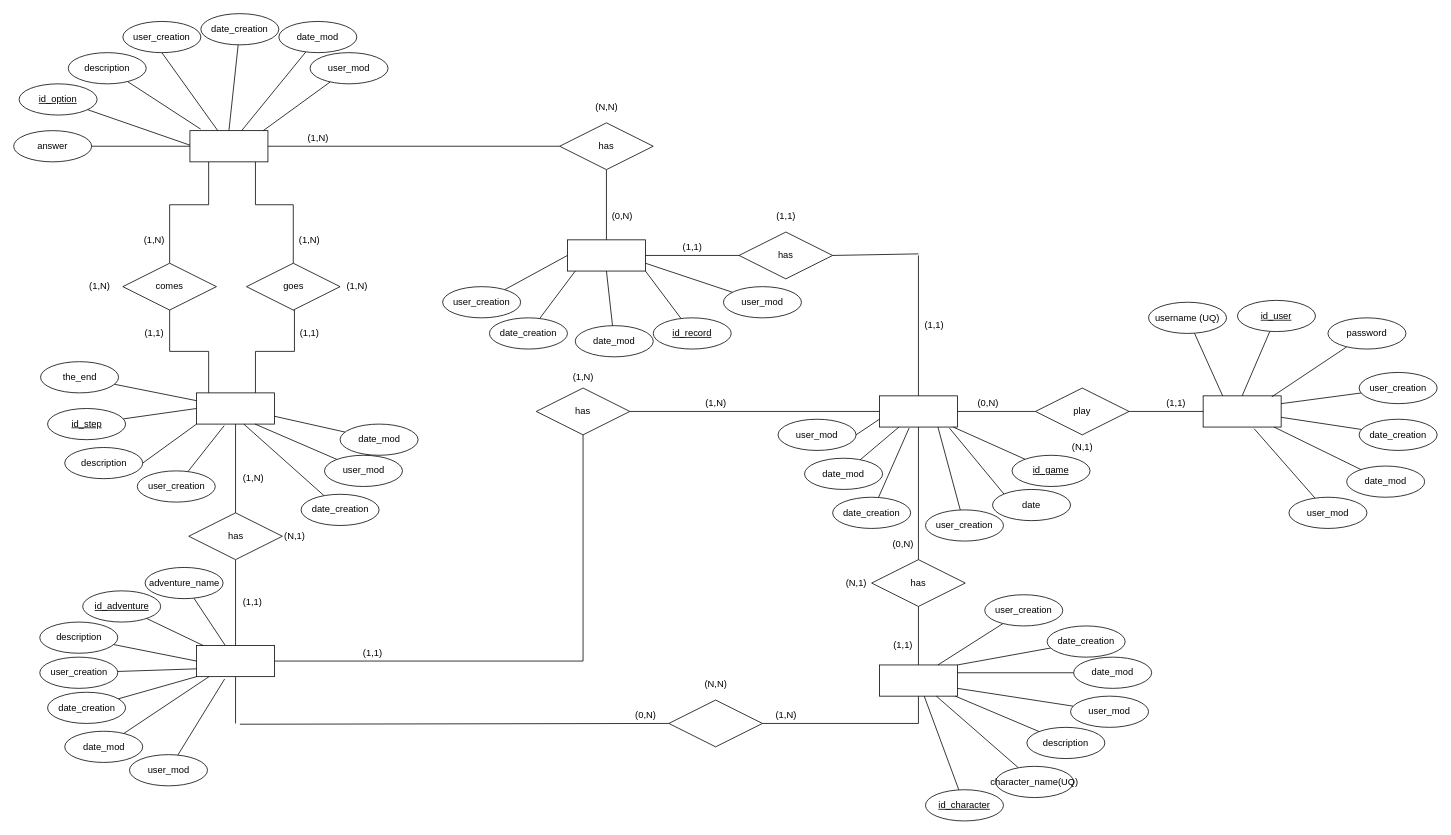
Image size: 1451x835. Some labels were removed from this diagram. Here are the shapes that lost their labels. From the top down, the box of each, then its label:
(189, 130, 268, 162): OPTION
(567, 239, 645, 271): RECORD
(196, 392, 275, 424): STEP
(879, 395, 957, 427): GAME
(1202, 395, 1281, 427): USER
(196, 645, 275, 677): ADVENTURE
(879, 664, 957, 696): CHARACTER
(668, 699, 762, 747): star s
